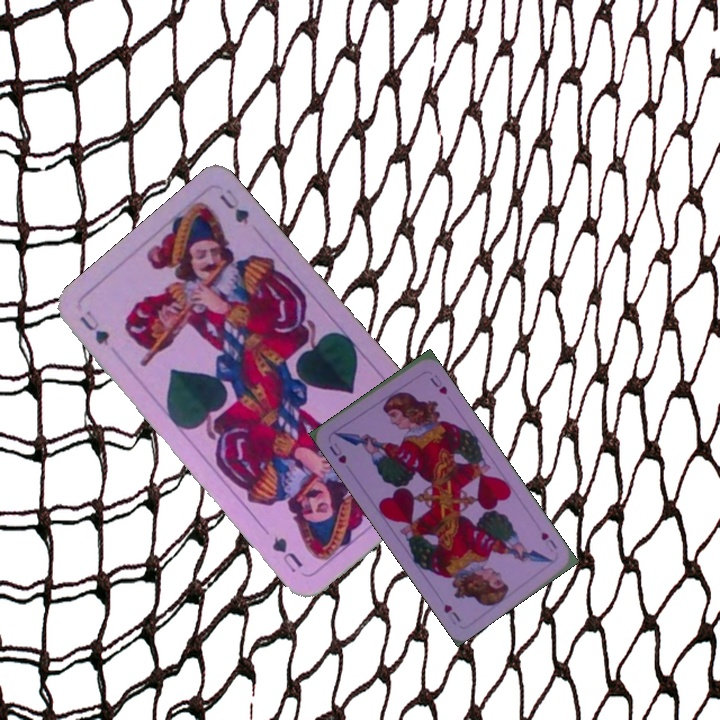GU: (75, 306, 112, 349)
HU: (325, 438, 349, 466), (537, 527, 560, 555)
